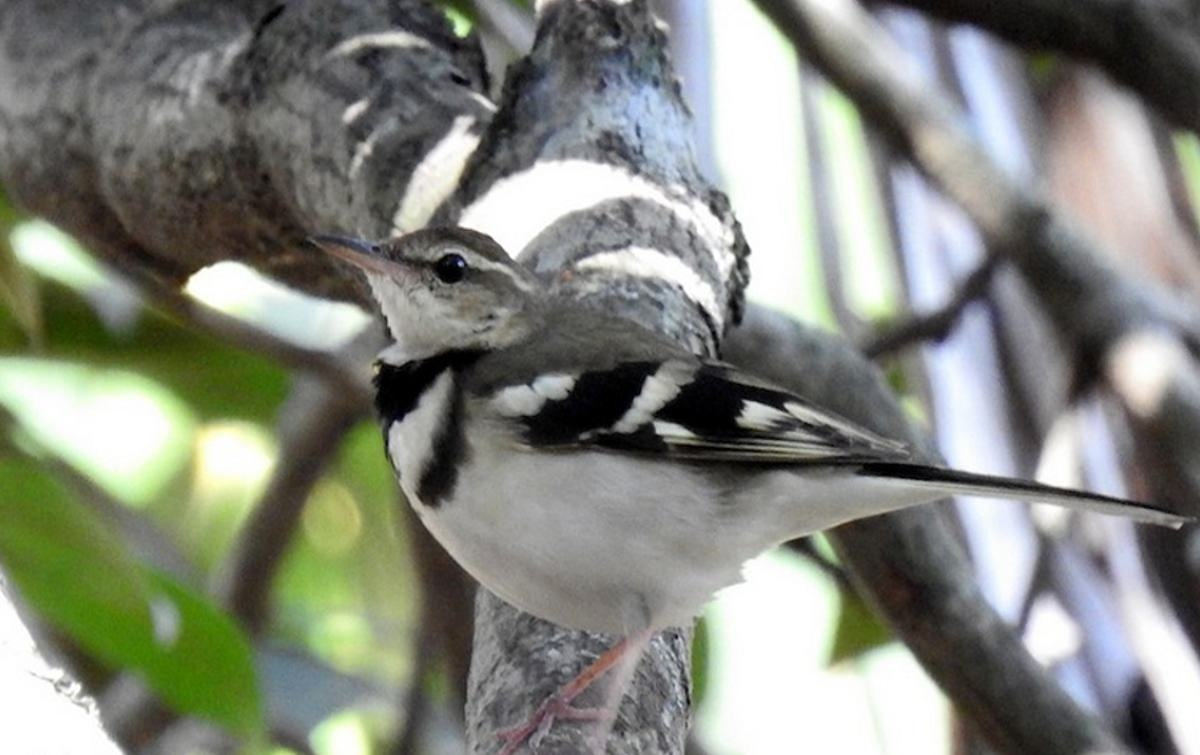wagtail: (320, 223, 1107, 641)
